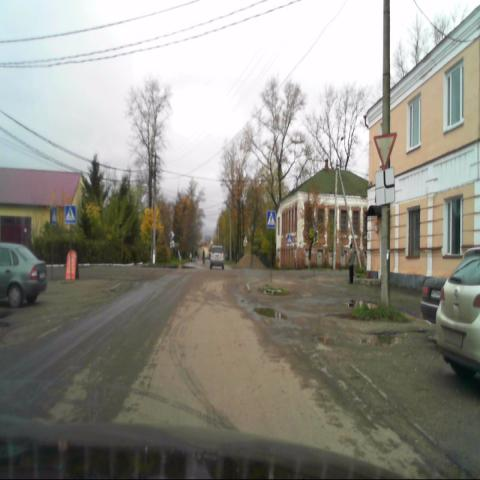8_13: (376, 167, 396, 207)
